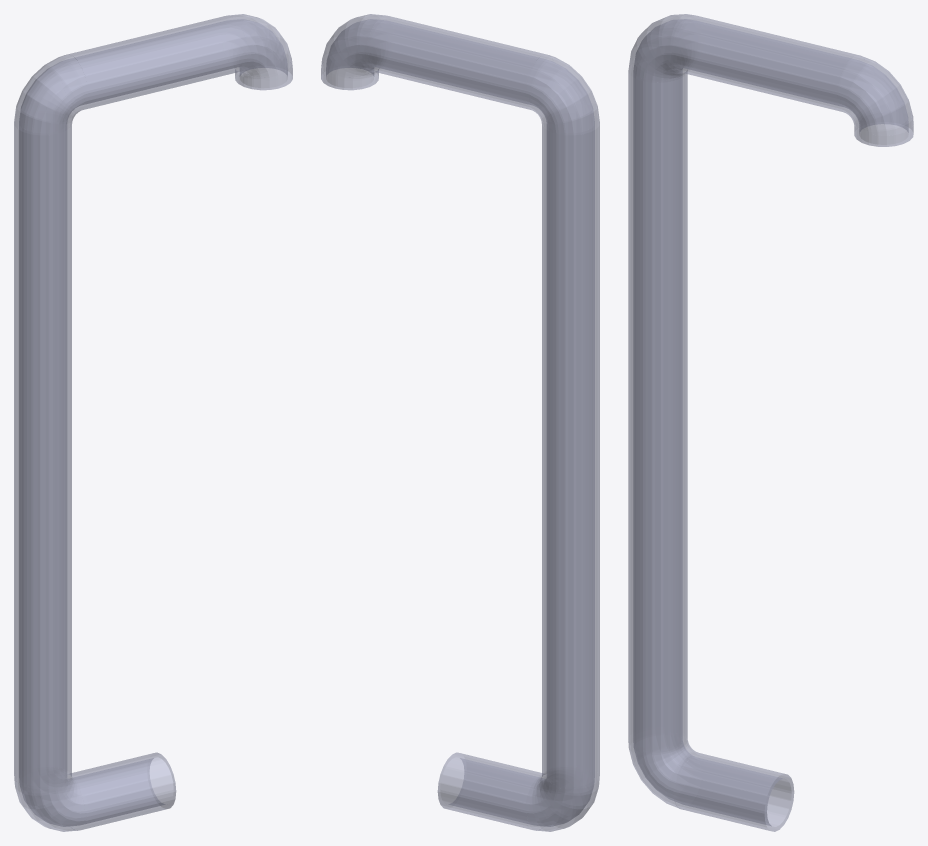
The model's file is pipe.obj.
3 views of the same model, side by side, from view 1: azimuth 30°, elevation 25°; view 2: azimuth 150°, elevation 25°; view 3: azimuth 330°, elevation 25° (orthographic). The views are drawn at different scales.
Parts seen in each view (by area): view 1: obj_0; view 2: obj_0; view 3: obj_0.
Part boxes in pixels (x1,y1,x2,y2): obj_0: (14, 14, 292, 831); obj_0: (321, 14, 599, 831); obj_0: (628, 14, 913, 831).
Size of the model in its own units: 64.5 by 176 by 12.
